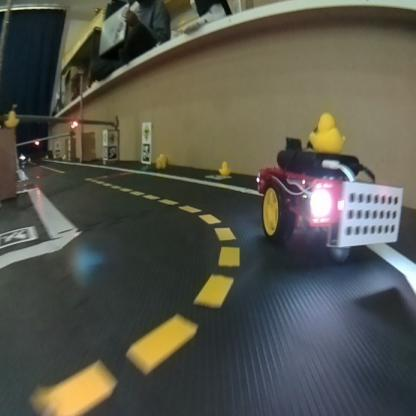duckie: (304, 106, 352, 154)
duckiebot: (246, 147, 412, 289)
